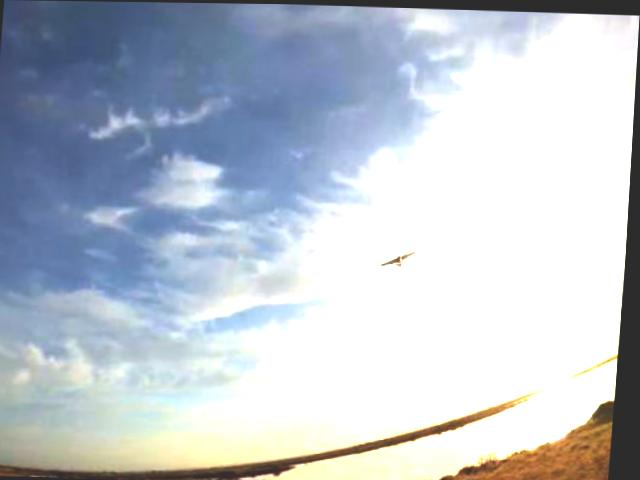uav: (381, 243, 423, 267)
